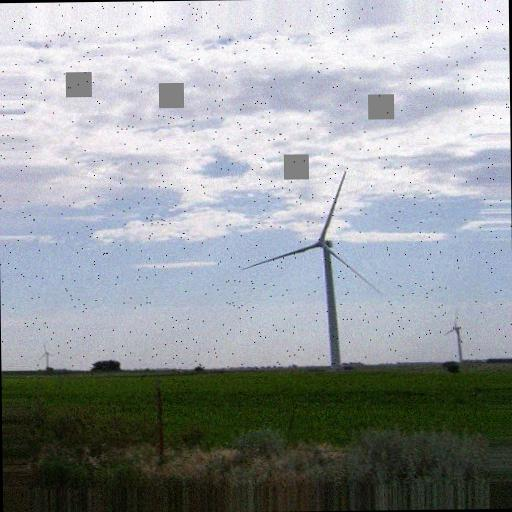wind turbine: (242, 170, 383, 370)
